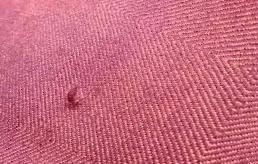knot: (64, 85, 83, 109)
